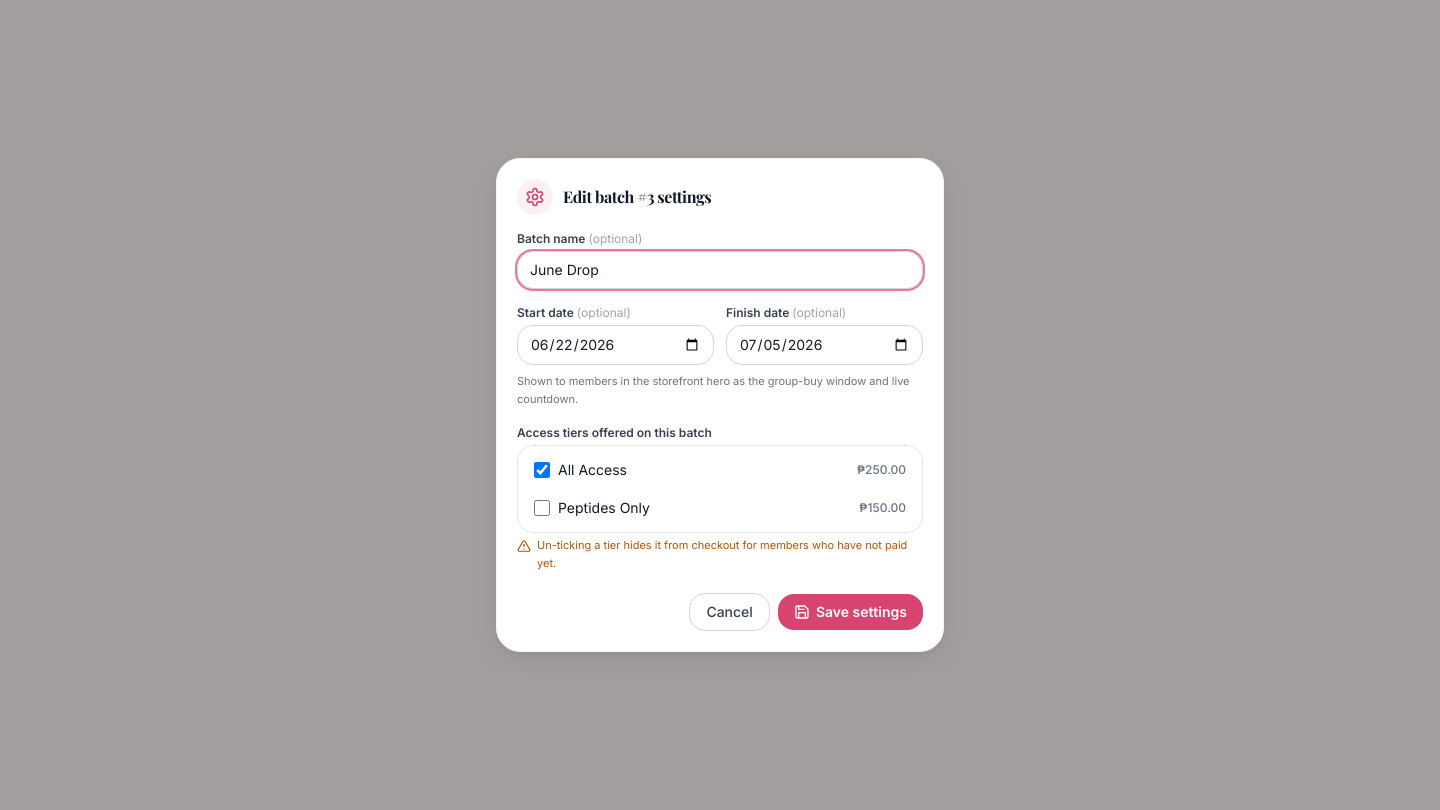
Scenario: EditBatchModal › blocks submit when the finish date is not after the start date
The width and height of the screenshot is (1440, 810).
Type "2026-06-21" into the date field labelled "Finish date (optional)" at (824, 345), box [726,325,923,365]
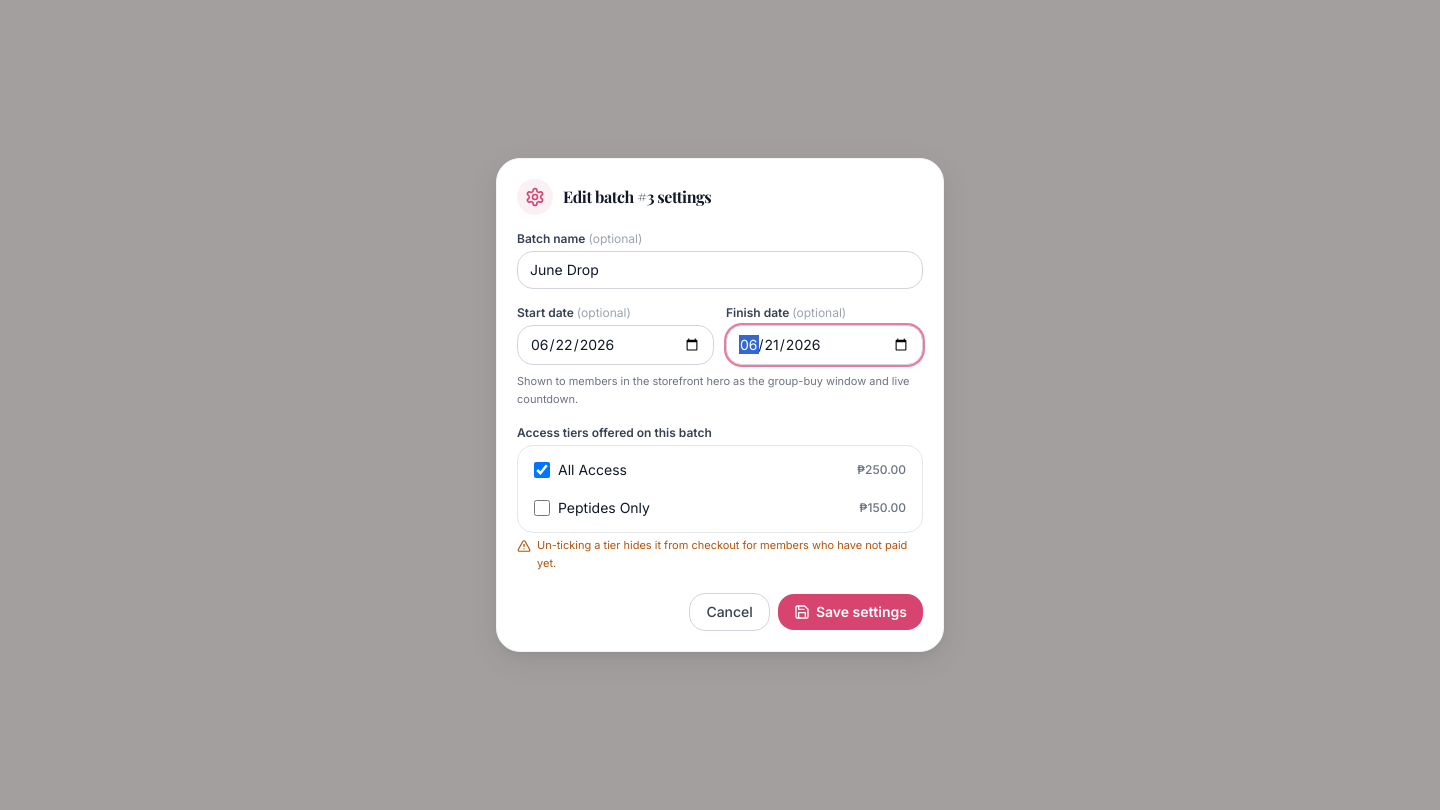
Click the button "Save settings" at (850, 612), box [778,594,923,630]
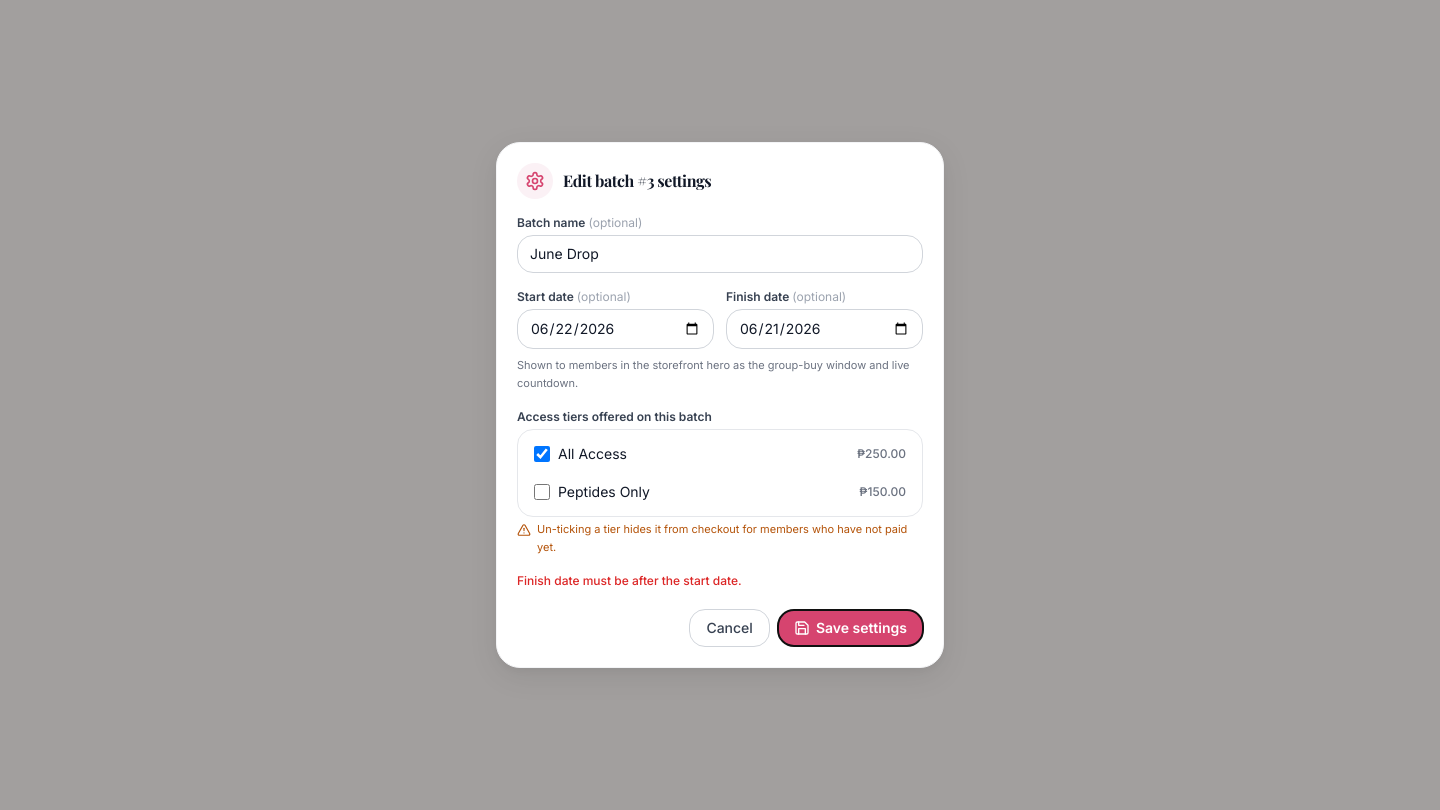
Check: the text "Finish date must be after the start date." is shown, box [517,573,742,588]
